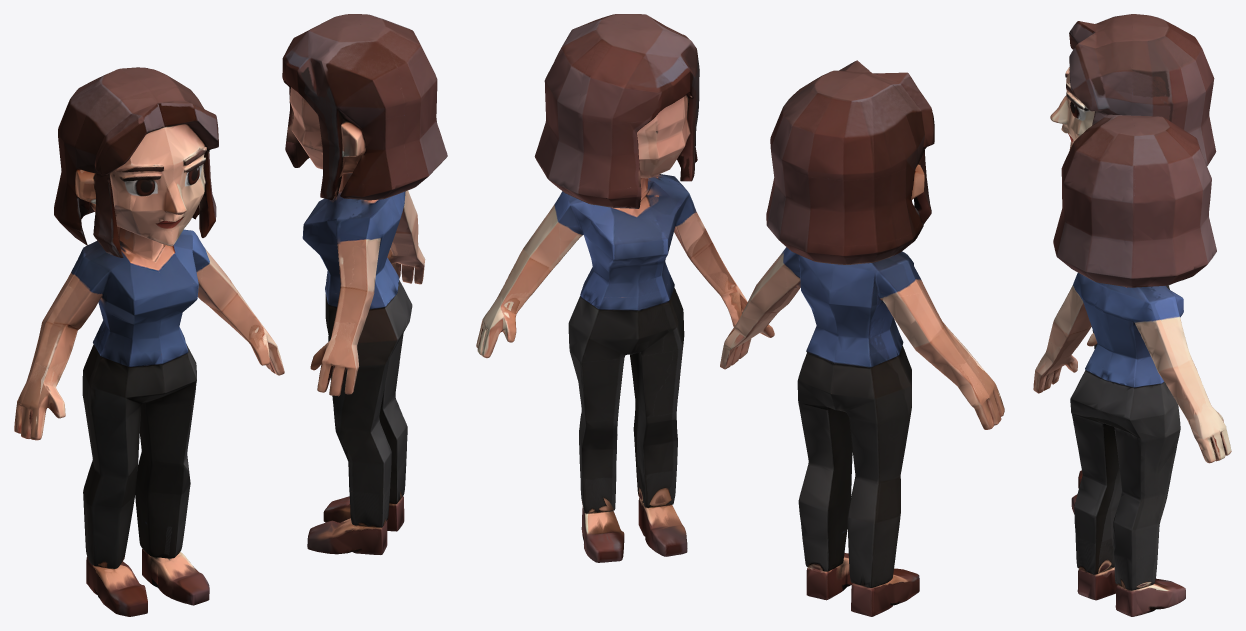
File: hitem3d-avatar-female-optimized.glb
The picture shows the model from 3 angles, left to right: view 1: azimuth 30°, elevation 25°; view 2: azimuth 150°, elevation 25°; view 3: azimuth 270°, elevation 25°; orthographic projection. The views are drawn at different scales.
Visible parts, largest first — view 1: tmps2zsvumiobj; view 2: tmps2zsvumiobj; view 3: tmps2zsvumiobj.
Part boxes in pixels (box(x1,y1,x2,y2)): tmps2zsvumiobj: box(14, 14, 447, 616); tmps2zsvumiobj: box(476, 14, 1004, 616); tmps2zsvumiobj: box(1033, 14, 1231, 616).
Size of the model in its own units: 0.9413 by 0.9999 by 0.3788.
1 material, 1 textured.
